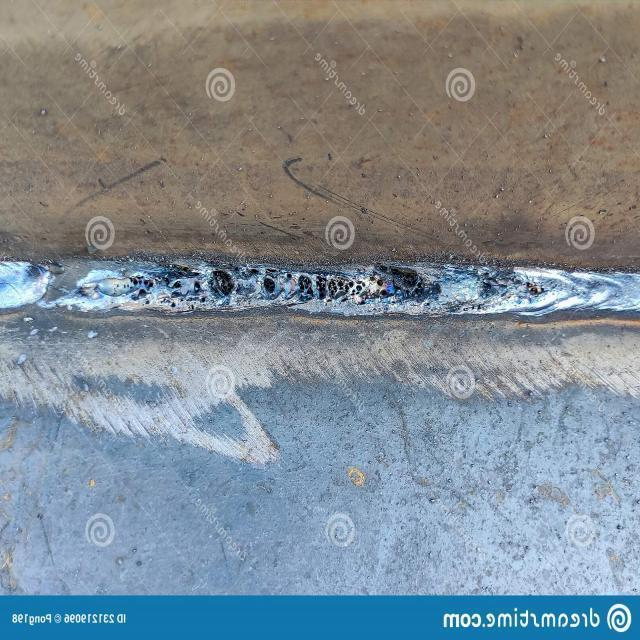Porosity: (248, 258, 429, 309), (117, 260, 207, 314), (205, 262, 244, 302), (523, 275, 547, 301)
